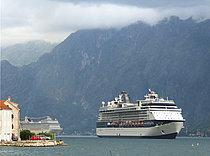Ship: (96, 89, 187, 143)
